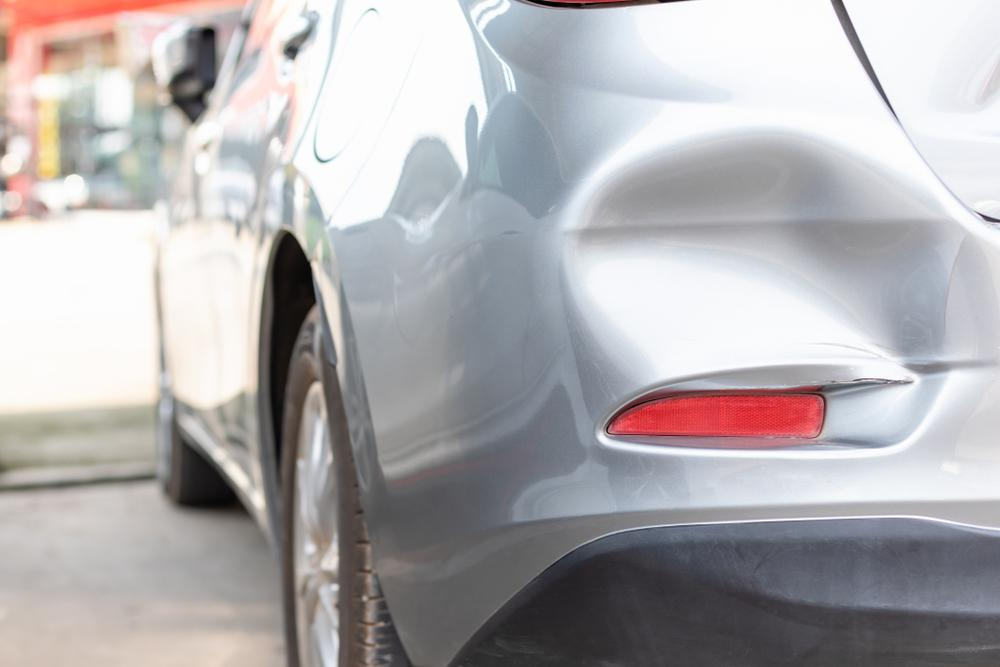dent: (572, 134, 958, 382)
